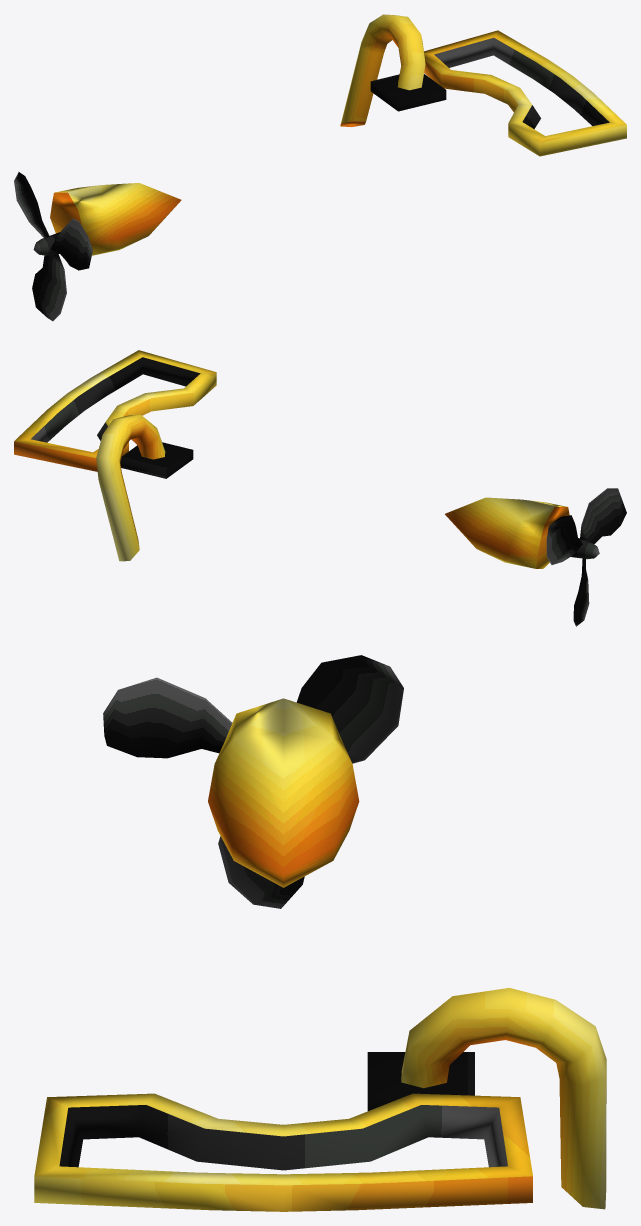
Rendered from GreatWhite_Power1.glb.
3 views of the same model, one above another, from view 1: azimuth 30°, elevation 25°; view 2: azimuth 150°, elevation 25°; view 3: azimuth 270°, elevation 25° (orthographic). The views are drawn at different scales.
Parts seen in each view (by area): view 1: GreatWhite_Power1, propeller; view 2: GreatWhite_Power1, propeller; view 3: GreatWhite_Power1, propeller.
Part boxes in pixels (box(x1,y1,x2,y2)): GreatWhite_Power1: box(50, 14, 626, 255); propeller: box(14, 172, 92, 321); GreatWhite_Power1: box(14, 350, 569, 568); propeller: box(546, 488, 626, 626); GreatWhite_Power1: box(34, 698, 606, 1211); propeller: box(103, 655, 403, 908).
Bounding box in the file's own units: 9.9 × 2.76 × 4.66.
Materials: 1 (1 with a texture image).
